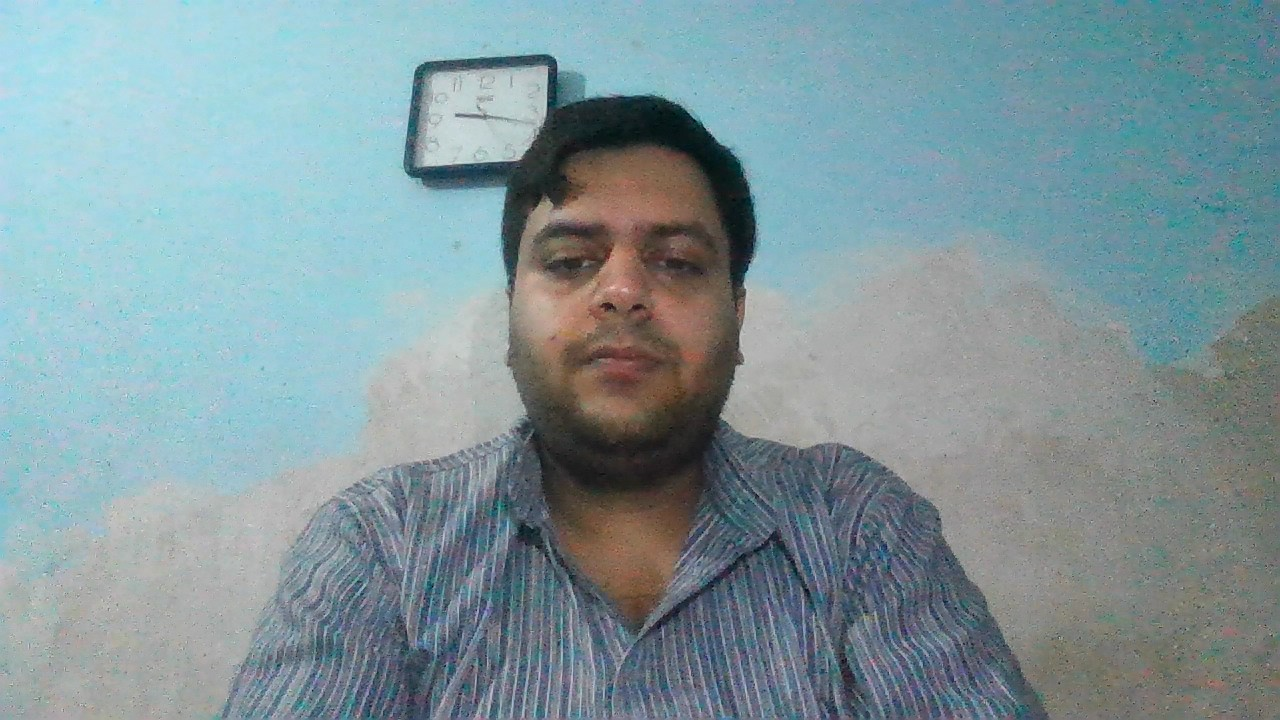No Mask: (498, 268, 760, 486)
